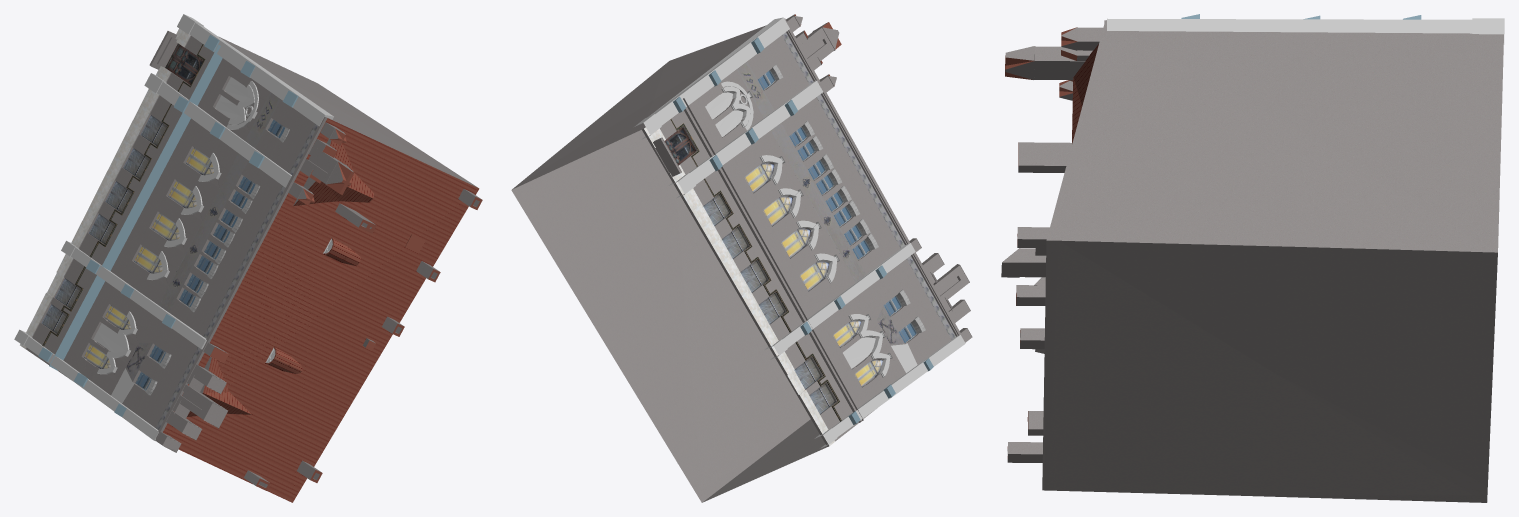
File: Olevimagi_8.obj
3 renders of one model, left to right at view 1: azimuth 30°, elevation 25°; view 2: azimuth 150°, elevation 25°; view 3: azimuth 270°, elevation 25°, orthographic. The views are drawn at different scales.
Visible parts, largest first — view 1: polySurface234; view 2: polySurface234; view 3: polySurface234.
Part boxes in pixels (bbox=[...]): polySurface234: bbox=[14, 14, 482, 502]; polySurface234: bbox=[511, 14, 972, 502]; polySurface234: bbox=[1001, 14, 1504, 502].
Size of the model in its own units: 18.72 by 21.03 by 18.33.
